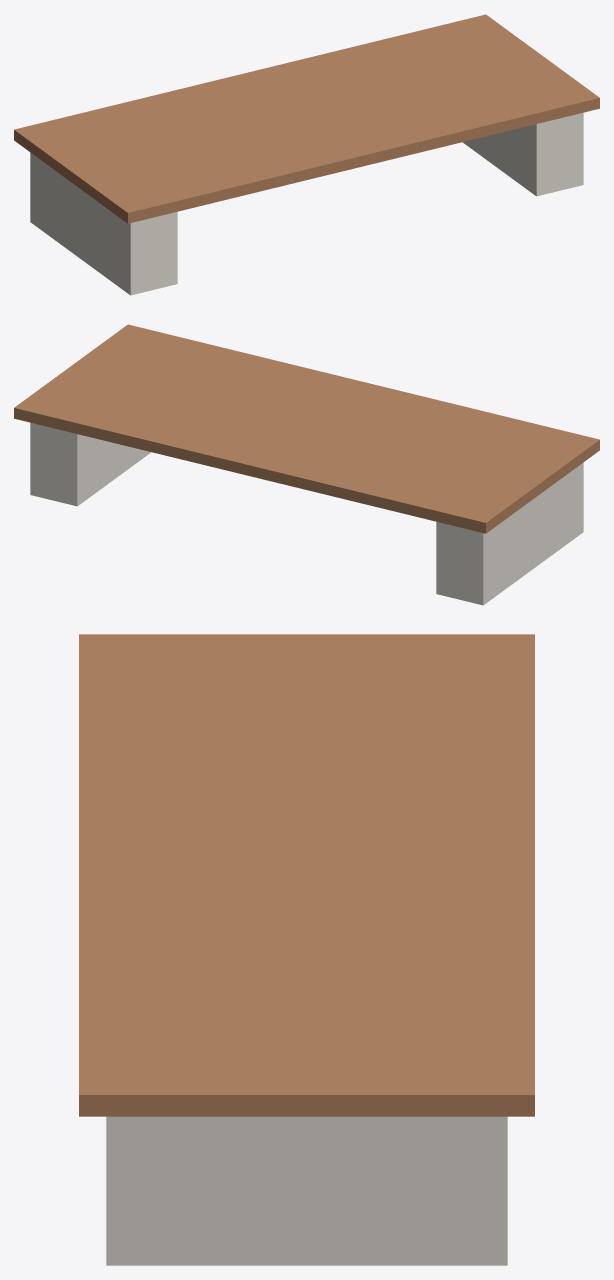
The model's file is monitor-riser.glb.
The picture shows the model from 3 angles, top to bottom: view 1: azimuth 30°, elevation 25°; view 2: azimuth 150°, elevation 25°; view 3: azimuth 270°, elevation 25°; orthographic projection. The views are drawn at different scales.
Parts seen in each view (by area): view 1: monitor-riser; view 2: monitor-riser; view 3: monitor-riser.
Part boxes in pixels (bbox=[...]): monitor-riser: bbox=[14, 14, 599, 295]; monitor-riser: bbox=[14, 324, 599, 605]; monitor-riser: bbox=[79, 634, 534, 1265].
Size of the model in its own units: 55 by 10 by 23.
